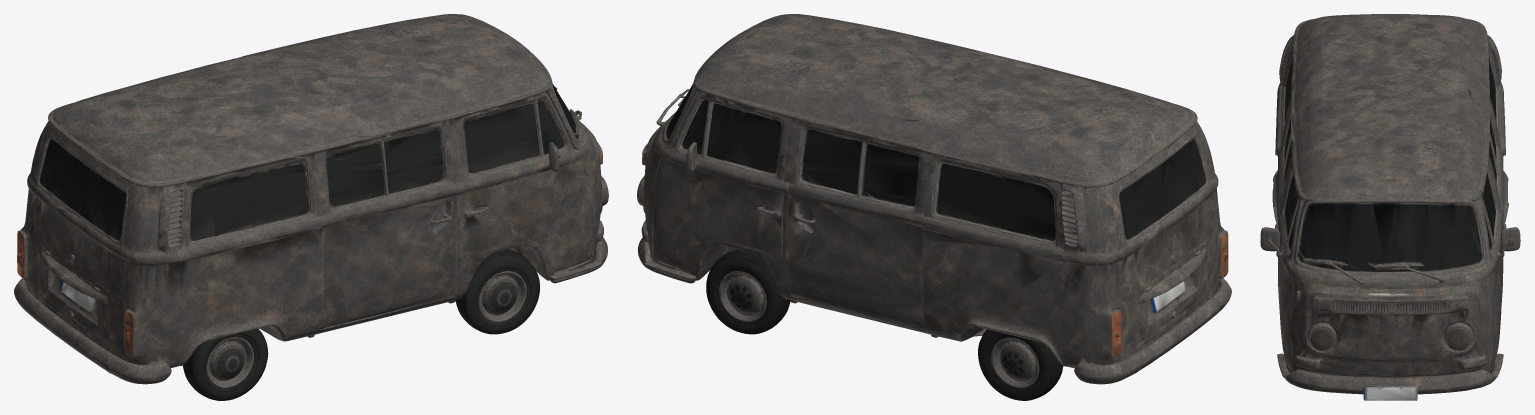
The model's file is pao-de-forma-queimado__01a16dcf.glb.
3 views of the same model, side by side, from view 1: azimuth 30°, elevation 25°; view 2: azimuth 150°, elevation 25°; view 3: azimuth 270°, elevation 25° (orthographic). The views are drawn at different scales.
Parts seen in each view (by area): view 1: pao-de-forma-queimado; view 2: pao-de-forma-queimado; view 3: pao-de-forma-queimado.
Part boxes in pixels (box(x1,y1,x2,y2)): pao-de-forma-queimado: box(14, 14, 608, 400); pao-de-forma-queimado: box(637, 14, 1231, 400); pao-de-forma-queimado: box(1260, 14, 1520, 400).
Size of the model in its own units: 4.5 by 2.1 by 2.19.
1 material, 1 textured.
